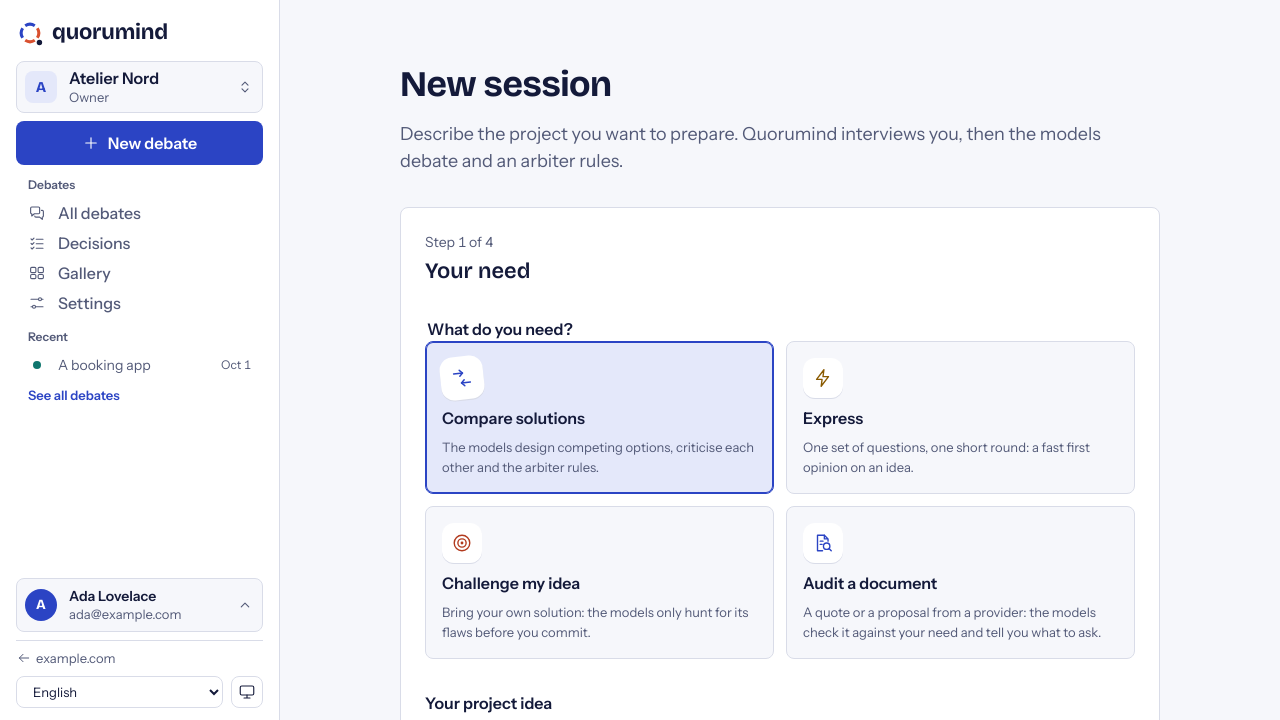
Test: the menu, hosted › opens the person's pages above the person's card, the workspace's being in the workspace's menu
This screenshot has width=1280, height=720.
Click the button named "Account: Ada Lovelace ada@example.com" at {"x": 140, "y": 604}, box x1=16 y1=578 x2=263 y2=632
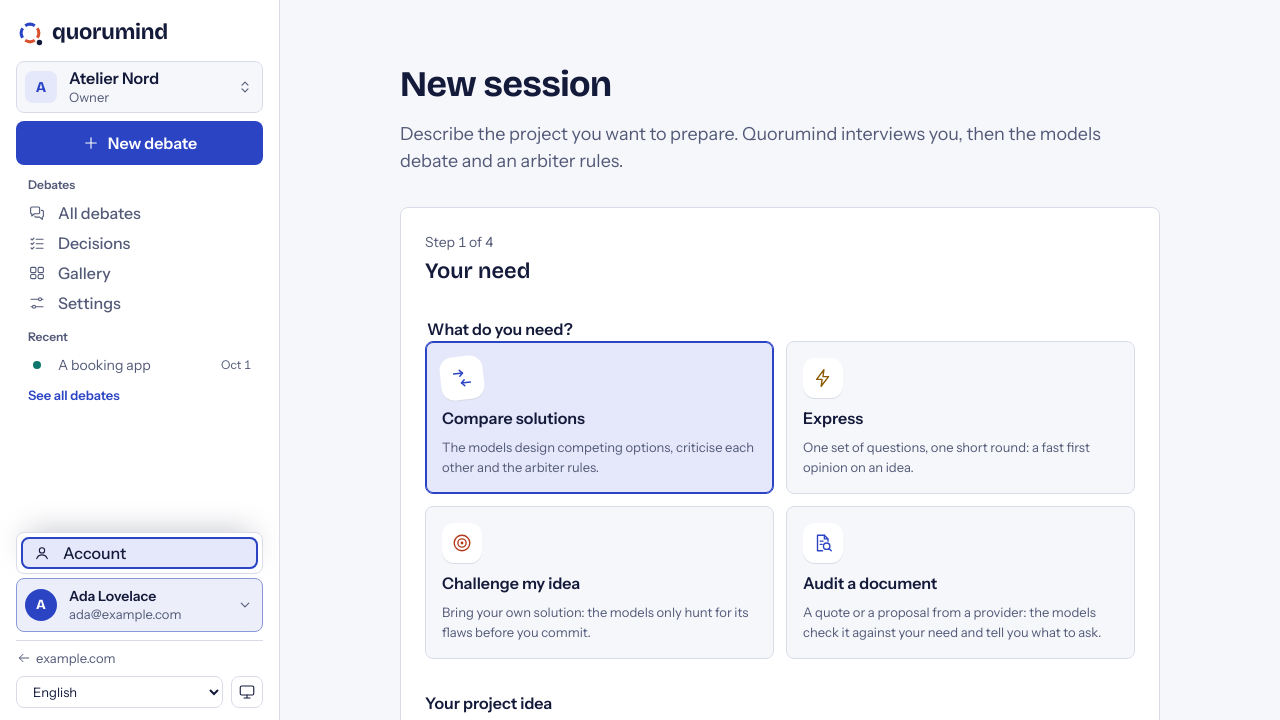
Result: the button named "Account: Ada Lovelace ada@example.com" is expanded
Result: the menu item reads "Account" at x1=21 y1=536 x2=258 y2=568
Click the button named "Account: Ada Lovelace ada@example.com" at {"x": 140, "y": 604}, box x1=16 y1=578 x2=263 y2=632
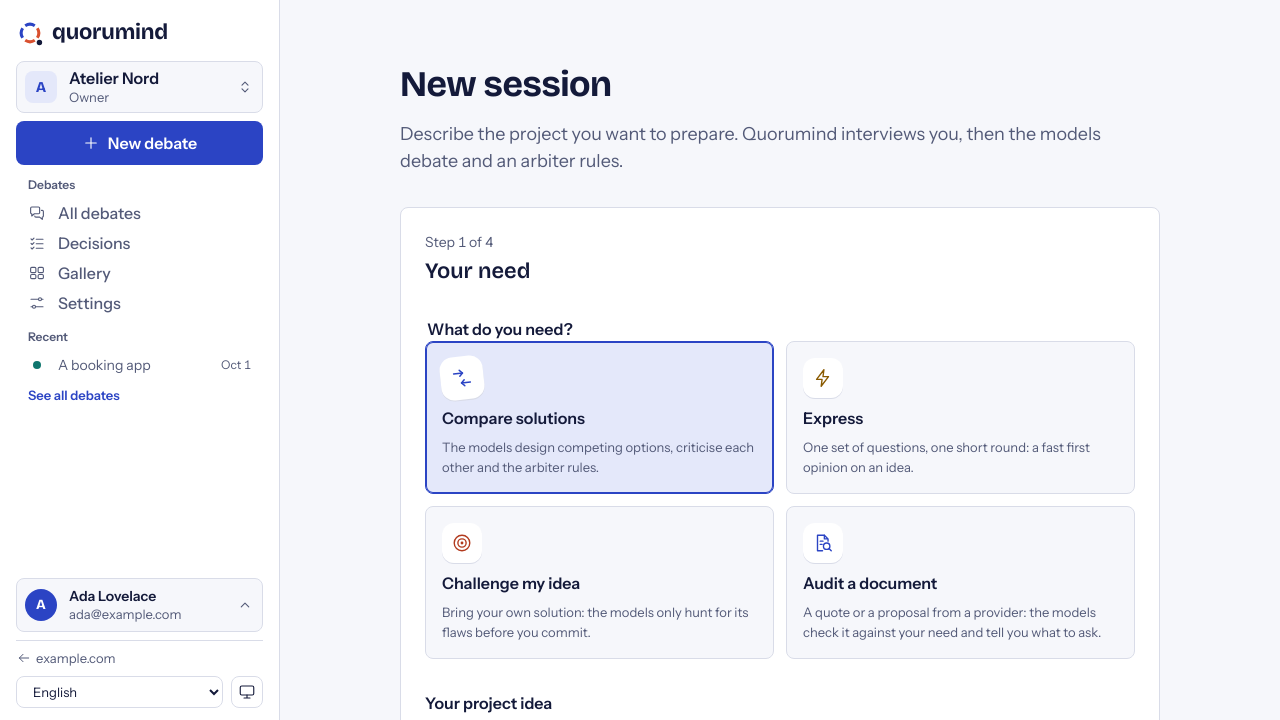
Result: the menu is gone
